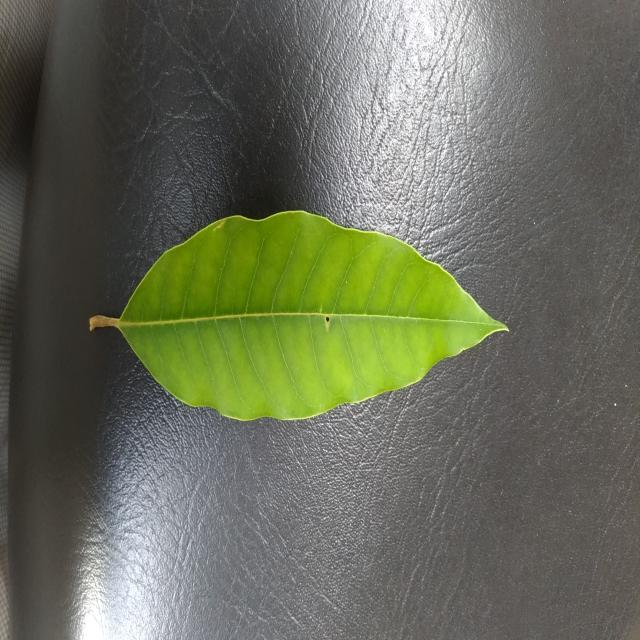coffee: (90, 211, 506, 420)
